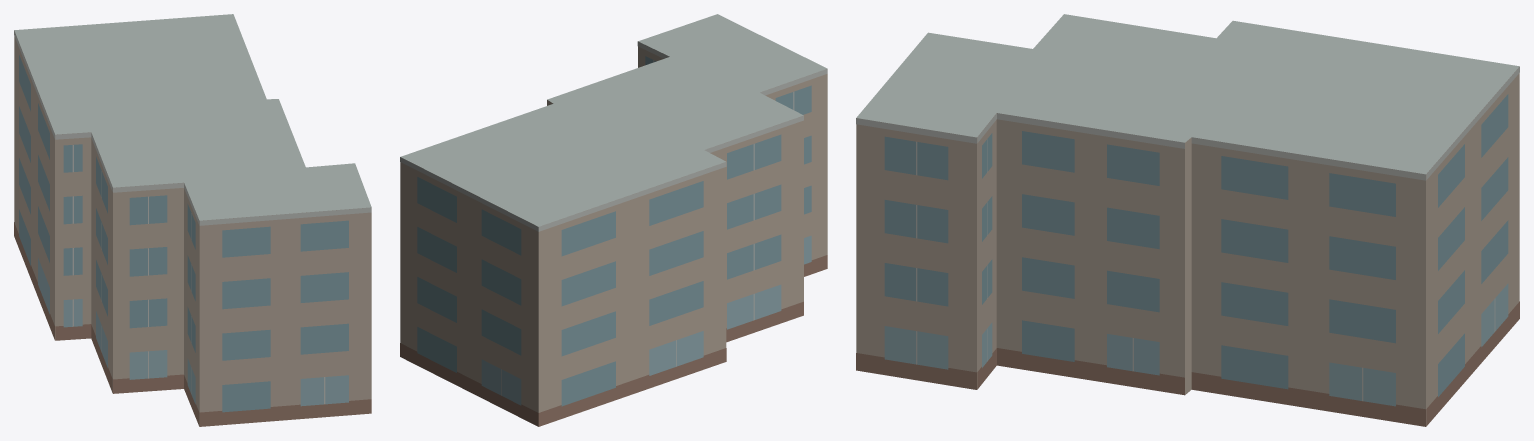
The model's file is survey-upis-32500151.glb.
3 views of the same model, side by side, from view 1: azimuth 30°, elevation 25°; view 2: azimuth 150°, elevation 25°; view 3: azimuth 270°, elevation 25° (orthographic). The views are drawn at different scales.
Visible parts, largest first — view 1: survey-upis-32500151.tmp; view 2: survey-upis-32500151.tmp; view 3: survey-upis-32500151.tmp.
Boxes of the visible parts, left/top/right/bottom form: survey-upis-32500151.tmp: left=14, top=14, right=371, bottom=426; survey-upis-32500151.tmp: left=400, top=14, right=827, bottom=426; survey-upis-32500151.tmp: left=856, top=14, right=1519, bottom=426.
Size of the model in its own units: 13.36 by 9.8 by 23.36.
